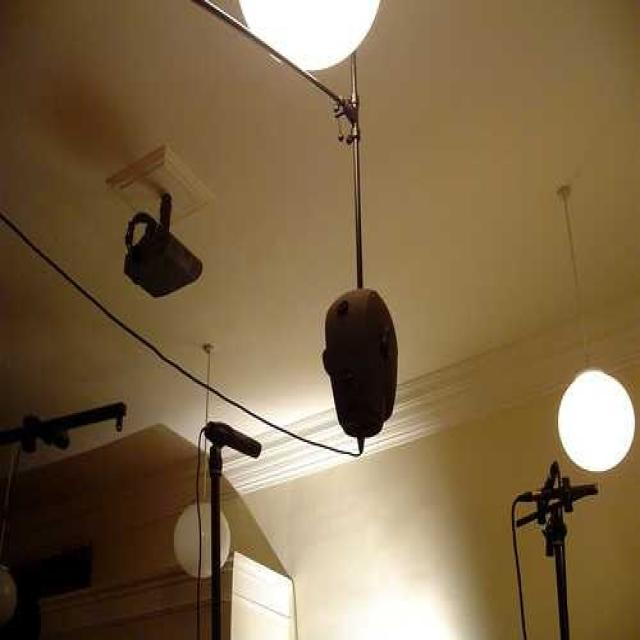microphone: (198, 415, 264, 469), (535, 453, 562, 522)
